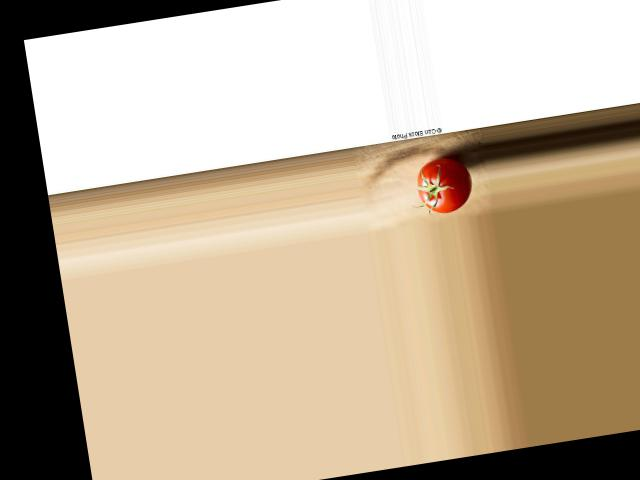tomato: (412, 154, 474, 215)
